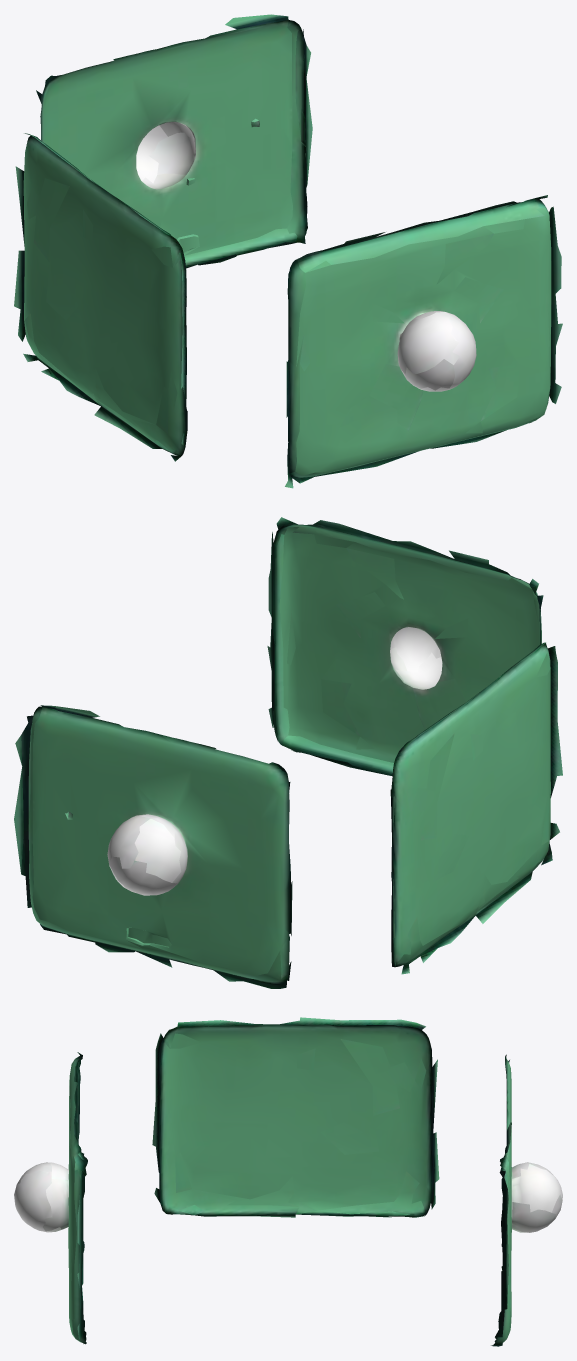
Rendered from drawer_top_left.glb.
The picture shows the model from 3 angles, top to bottom: view 1: azimuth 30°, elevation 25°; view 2: azimuth 150°, elevation 25°; view 3: azimuth 270°, elevation 25°; orthographic projection. The views are drawn at different scales.
Visible parts, largest first — view 1: geometry_0; view 2: geometry_0; view 3: geometry_0.
Part boxes in pixels (left/top/right/bottom): geometry_0: left=14, top=14, right=562, bottom=488; geometry_0: left=14, top=517, right=562, bottom=988; geometry_0: left=14, top=1017, right=562, bottom=1346.
Bounding box in the file's own units: 0.123 × 0.0819 × 0.1977.
1 material, 1 textured.
